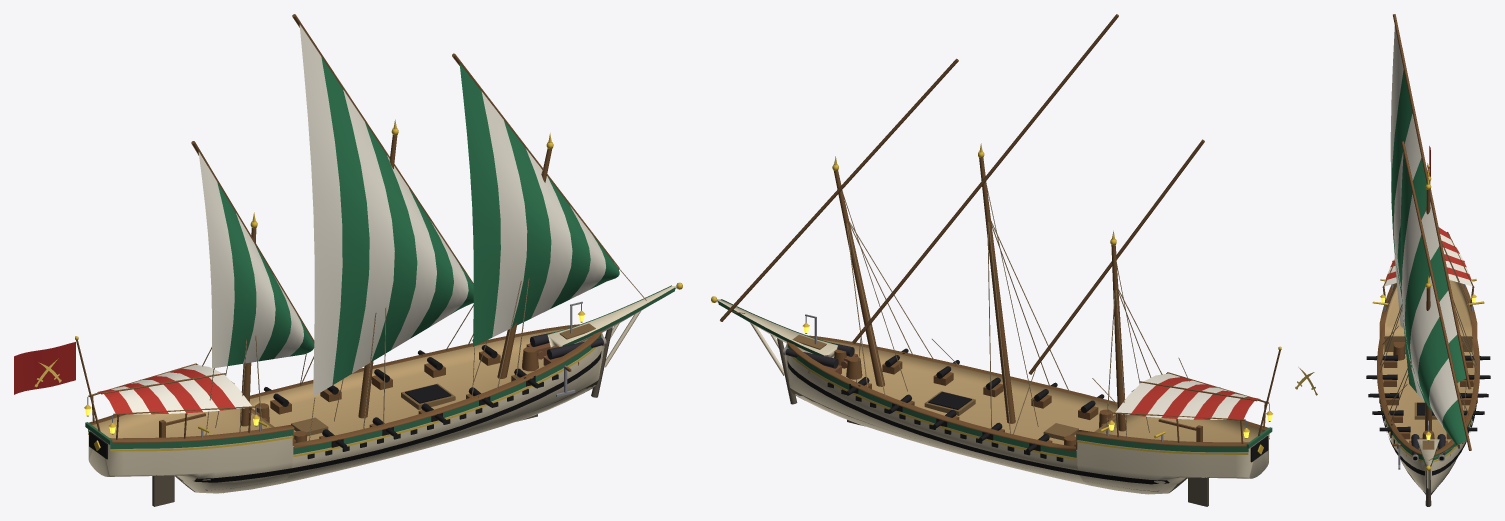
Rendered from xebec-10c-bowchasers.glb.
3 views of the same model, side by side, from view 1: azimuth 30°, elevation 25°; view 2: azimuth 150°, elevation 25°; view 3: azimuth 270°, elevation 25° (orthographic). The views are drawn at different scales.
Visible parts, largest first — view 1: Mesh_Hull, Mesh_DeckAndBulwarks, Mesh_Sail_Main_Stripe7, Mesh_Sail_Main_Stripe6, Mesh_Sail_Fore_Stripe6, Mesh_Sail_Main_Stripe5, Mesh_Sail_Fore_Stripe5, Mesh_Sail_Mizzen_Stripe5, Mesh_Sail_Main_Stripe4, Mesh_Sail_Fore_Stripe4, Mesh_Sail_Mizzen_Stripe4, Mesh_RailCapS (+17 smaller); view 2: Mesh_Hull, Mesh_DeckAndBulwarks, Mesh_RailCapP, Mesh_Trim_BandP, Mesh_WaleP, Mesh_MainMast, Mesh_MainYard, Mesh_ForeMast, Mesh_ForeYard, Mesh_MizzenMast, Mesh_RailCapS, Mesh_MizzenYard (+4 smaller); view 3: Mesh_DeckAndBulwarks, Mesh_Sail_Fore_Stripe4, Mesh_Sail_Fore_Stripe2, Mesh_Sail_Fore_Stripe3, Mesh_Sail_Main_Stripe6, Mesh_MainYard, Mesh_Sail_Fore_Stripe5, Mesh_Sail_Main_Stripe5, Mesh_Sail_Main_Stripe7, Mesh_Hull, Mesh_ForeYard, Mesh_Sail_Fore_Stripe1 (+19 smaller).
Part boxes in pixels (<box>): Mesh_Hull: <box>88,333,604,493</box>; Mesh_DeckAndBulwarks: <box>92,328,566,440</box>; Mesh_Sail_Main_Stripe7: <box>299,24,342,396</box>; Mesh_Sail_Main_Stripe6: <box>321,57,369,384</box>; Mesh_Sail_Fore_Stripe6: <box>459,63,500,346</box>; Mesh_Sail_Main_Stripe5: <box>343,90,394,373</box>; Mesh_Sail_Fore_Stripe5: <box>481,91,527,337</box>; Mesh_Sail_Mizzen_Stripe5: <box>198,152,234,368</box>; Mesh_Sail_Main_Stripe4: <box>365,122,417,361</box>; Mesh_Sail_Fore_Stripe4: <box>504,120,551,327</box>; Mesh_Sail_Mizzen_Stripe4: <box>217,182,256,365</box>; Mesh_RailCapS: <box>110,331,601,448</box>; Mesh_Hull: <box>784,344,1268,494</box>; Mesh_DeckAndBulwarks: <box>821,339,1265,444</box>; Mesh_RailCapP: <box>787,341,1248,452</box>; Mesh_Trim_BandP: <box>787,345,1248,457</box>; Mesh_WaleP: <box>787,361,1169,484</box>; Mesh_MainMast: <box>979,157,1015,423</box>; Mesh_MainYard: <box>852,14,1118,343</box>; Mesh_ForeMast: <box>834,170,884,386</box>; Mesh_ForeYard: <box>720,58,958,321</box>; Mesh_MizzenMast: <box>1111,245,1126,431</box>; Mesh_RailCapS: <box>807,335,1268,430</box>; Mesh_MizzenYard: <box>1029,139,1204,374</box>; Mesh_DeckAndBulwarks: <box>1382,280,1474,442</box>; Mesh_Sail_Fore_Stripe4: <box>1404,234,1432,411</box>; Mesh_Sail_Fore_Stripe2: <box>1418,317,1448,412</box>; Mesh_Sail_Fore_Stripe3: <box>1410,276,1439,394</box>; Mesh_Sail_Main_Stripe6: <box>1391,70,1412,297</box>; Mesh_MainYard: <box>1393,14,1471,389</box>; Mesh_Sail_Fore_Stripe5: <box>1402,193,1424,402</box>; Mesh_Sail_Main_Stripe5: <box>1393,114,1421,289</box>; Mesh_Sail_Main_Stripe7: <box>1390,25,1403,328</box>; Mesh_Hull: <box>1381,407,1475,494</box>; Mesh_ForeYard: <box>1401,141,1471,450</box>; Mesh_Sail_Fore_Stripe1: <box>1429,358,1457,427</box>.
Size of the model in its own units: 32.7 by 22.51 by 6.79.
